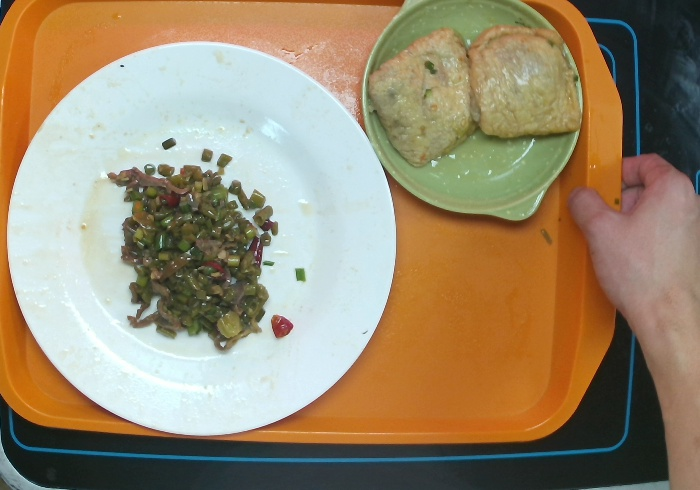NLDX-Da_Yuan_Pan: (1, 38, 402, 440)
NLDX-Lv_Hua_Shuang_Er_Die: (356, 1, 586, 225)
